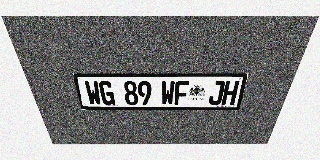8: (123, 81, 138, 105)
9: (137, 81, 152, 105)
F: (174, 81, 189, 105)
G: (98, 81, 115, 105)
H: (221, 81, 240, 105)
J: (208, 81, 225, 105)
W: (84, 81, 102, 105), (161, 81, 175, 105)
